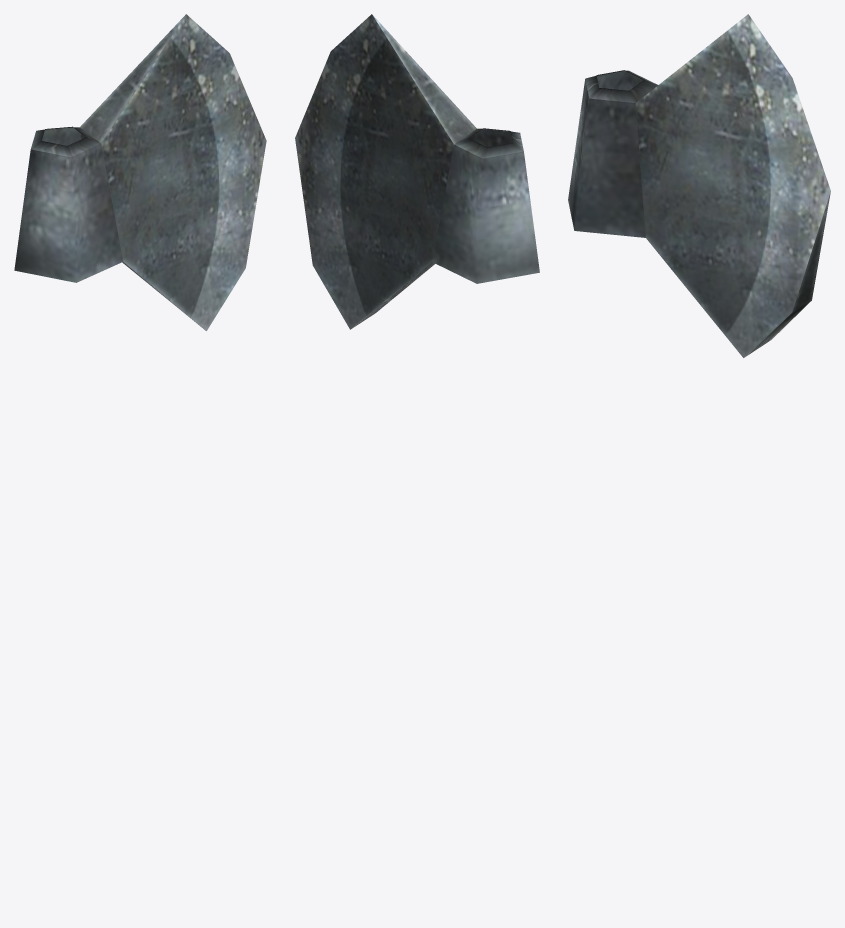
File: axe01.FBX
3 views of the same model, side by side, from view 1: azimuth 30°, elevation 25°; view 2: azimuth 150°, elevation 25°; view 3: azimuth 330°, elevation 25° (orthographic). The views are drawn at different scales.
Parts seen in each view (by area): view 1: axe01; view 2: axe01; view 3: axe01.
Boxes of the visible parts, x1,y1,x2,y2 form: axe01: [14, 14, 266, 330]; axe01: [295, 14, 539, 329]; axe01: [568, 14, 830, 357].
Bounding box in the file's own units: 0.4449 × 0.1717 × 1.47.
